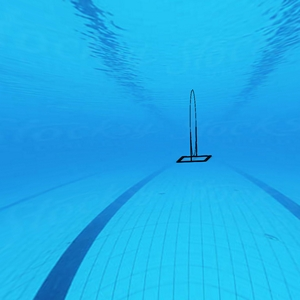circle: (174, 86, 218, 169)
